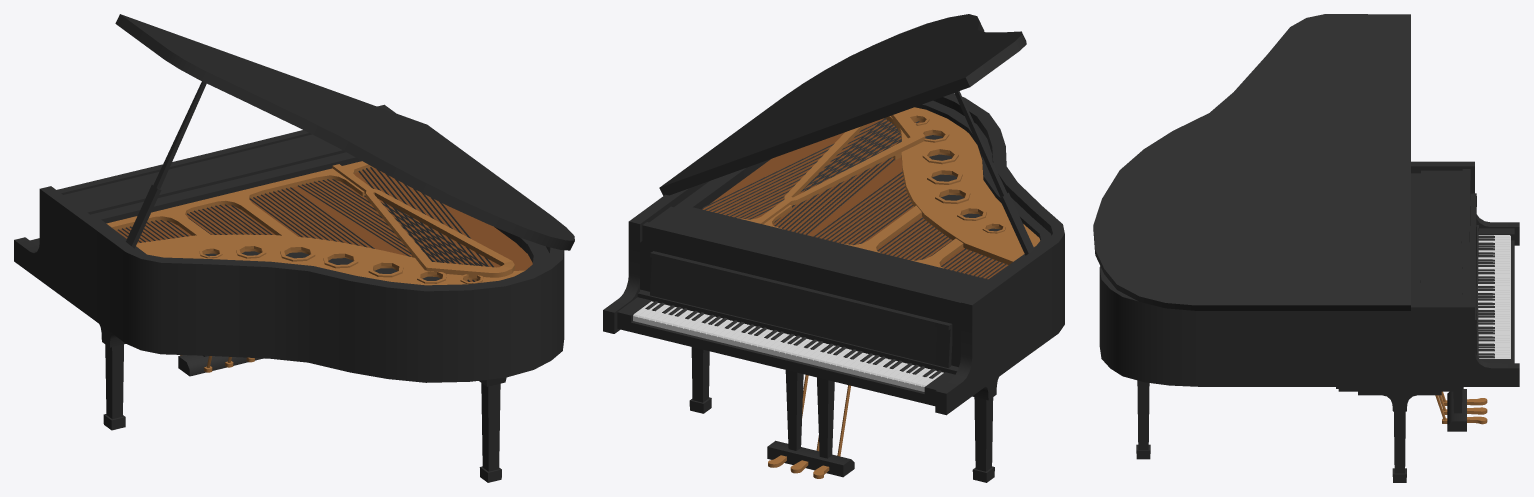
Rendered from GrandPiano_01.fbx.
The picture shows the model from 3 angles, left to right: view 1: azimuth 30°, elevation 25°; view 2: azimuth 150°, elevation 25°; view 3: azimuth 270°, elevation 25°; orthographic projection. The views are drawn at different scales.
Parts seen in each view (by area): view 1: GrandPiano_01; view 2: GrandPiano_01; view 3: GrandPiano_01.
Part boxes in pixels (bbox=[...]): GrandPiano_01: bbox=[14, 14, 574, 482]; GrandPiano_01: bbox=[603, 14, 1064, 482]; GrandPiano_01: bbox=[1093, 14, 1519, 482].
Size of the model in its own units: 1.96 by 2.16 by 2.37.
